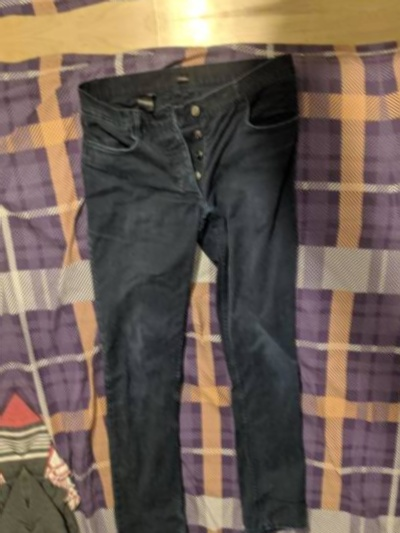Pants: (49, 38, 376, 533), (0, 0, 313, 1)
